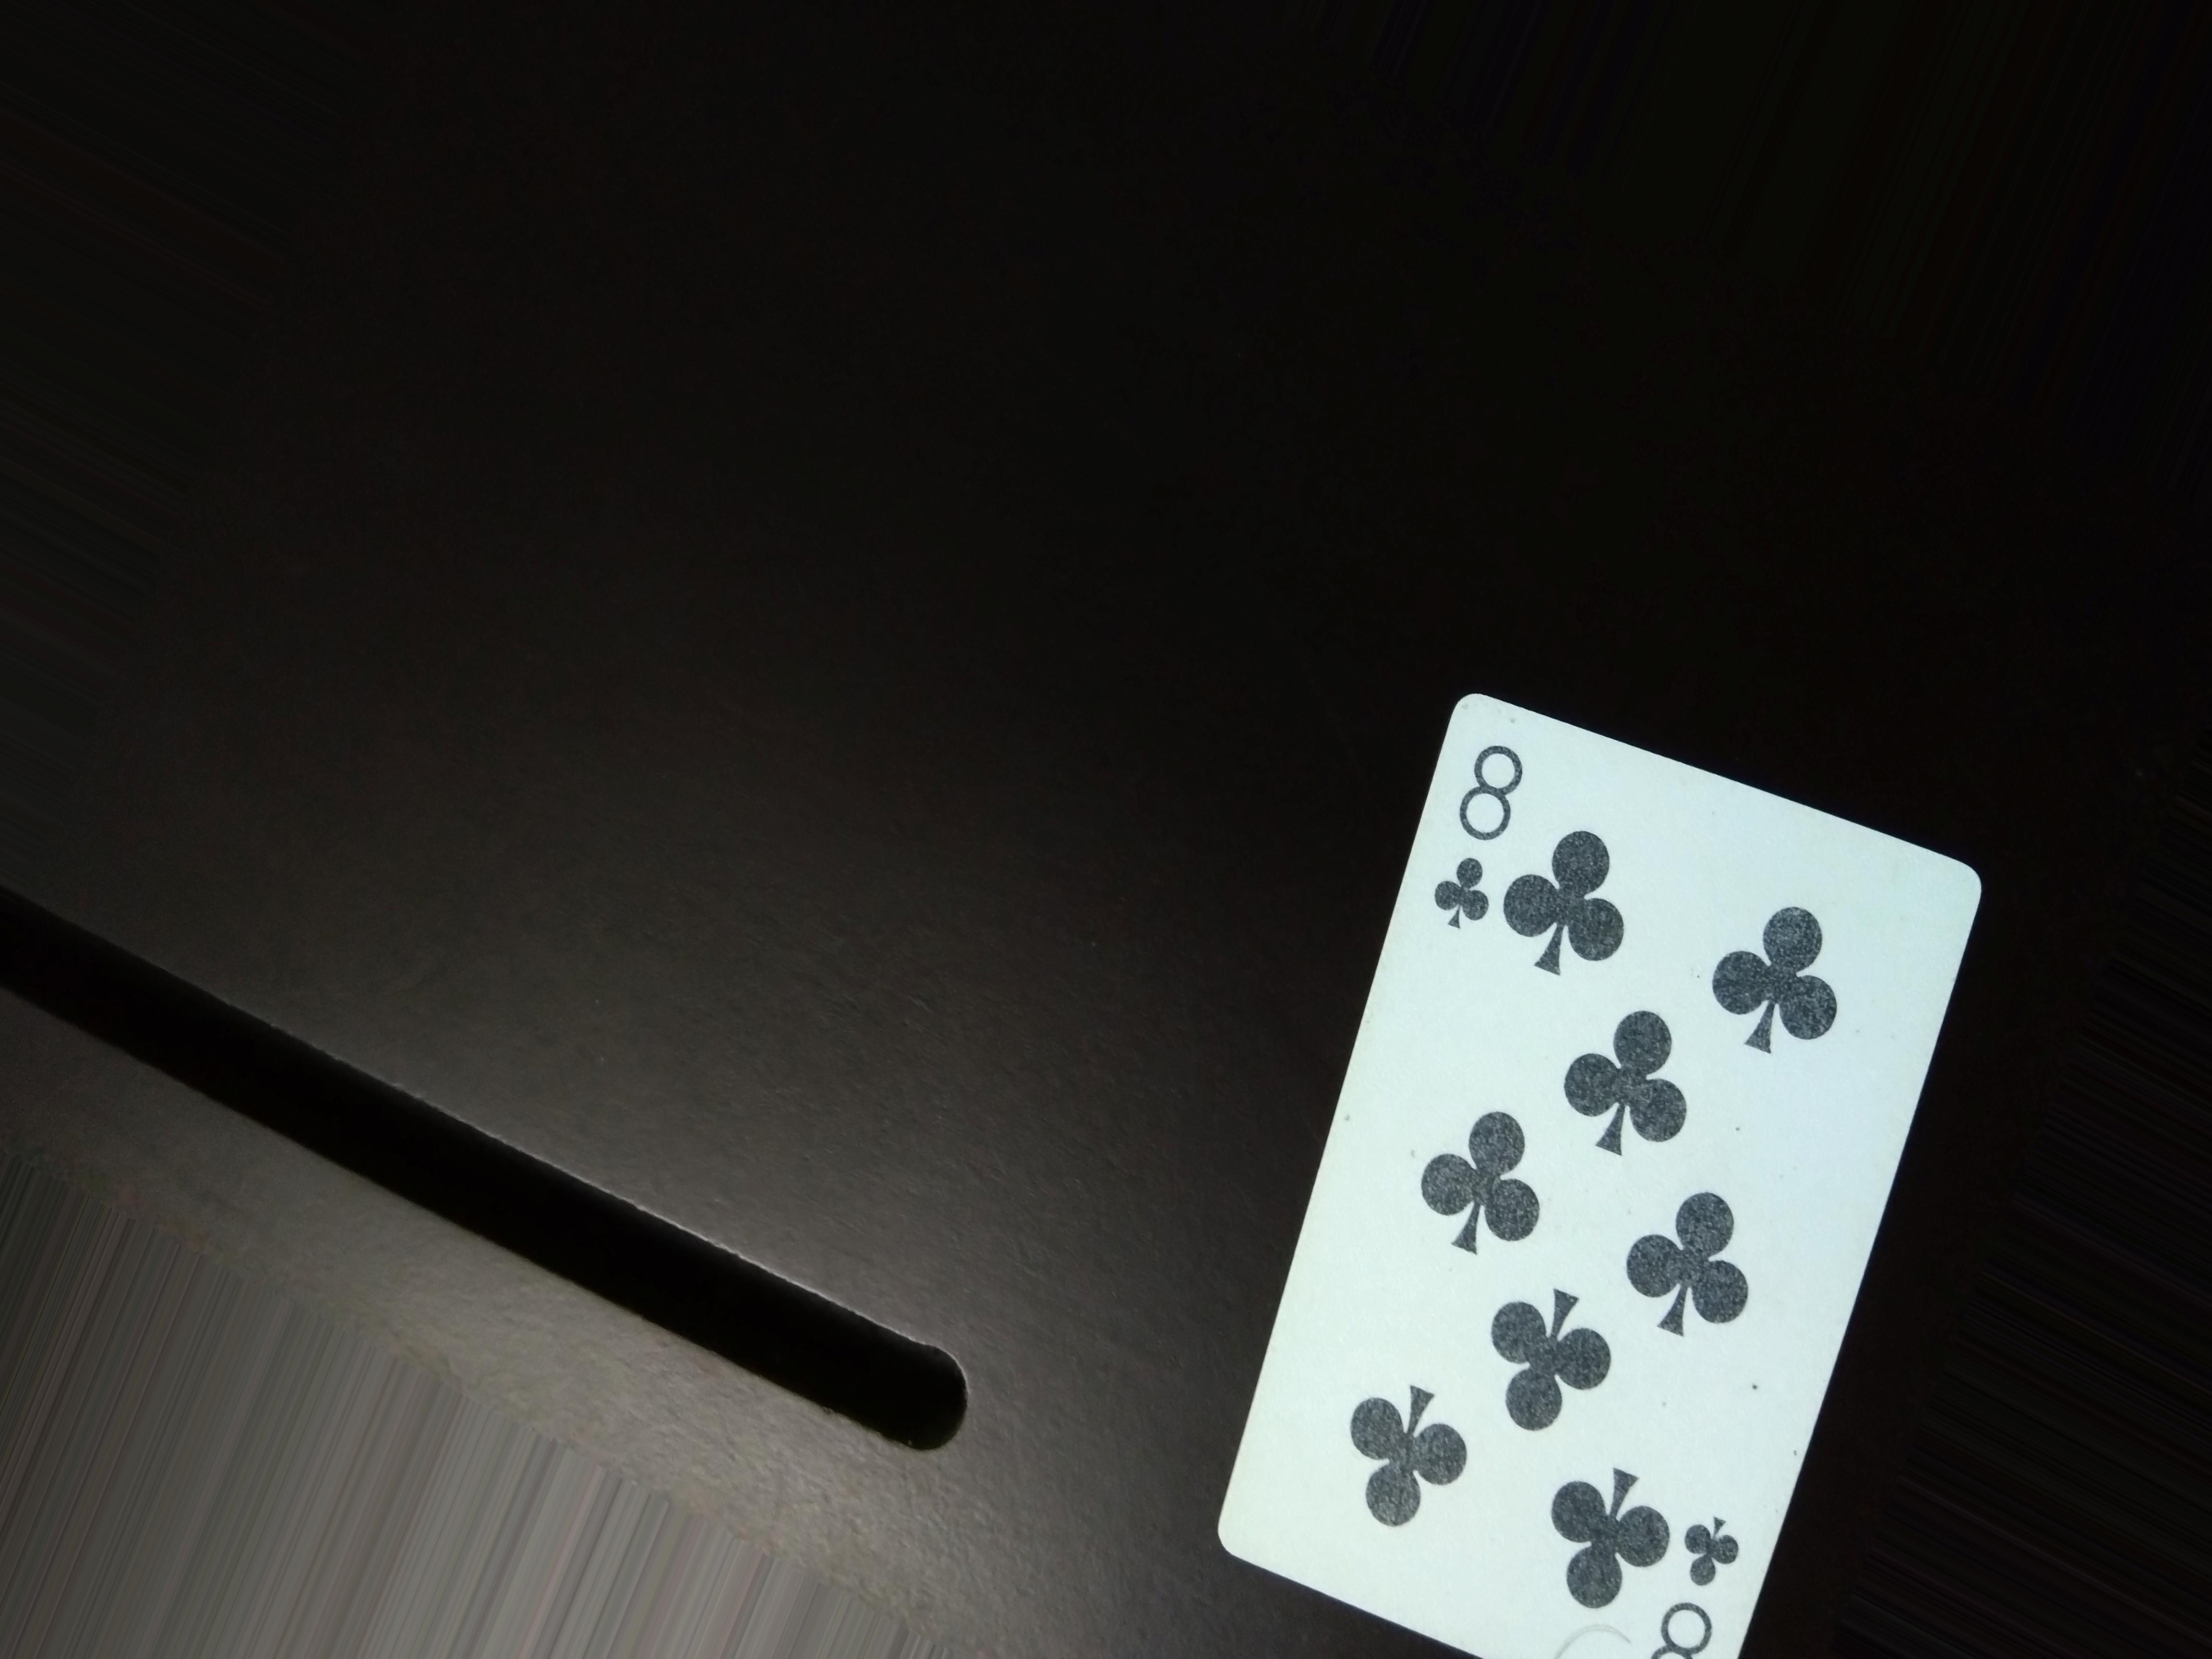8C: (1437, 685, 1529, 964)
